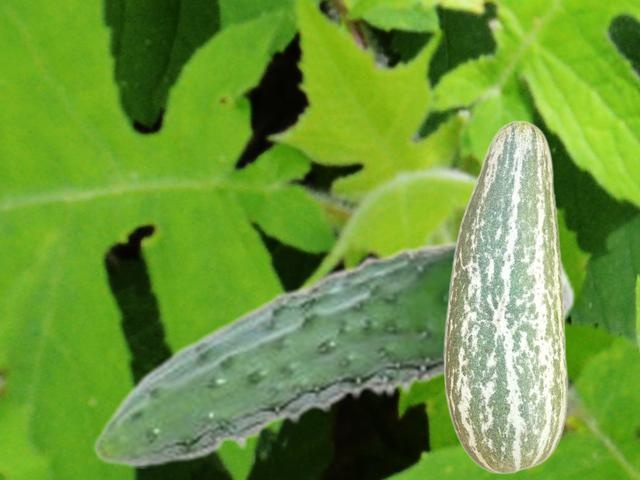cucumber: (92, 235, 576, 467), (443, 120, 567, 473)
